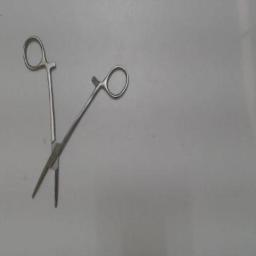Mayo Needle Holder: (18, 30, 134, 212)
